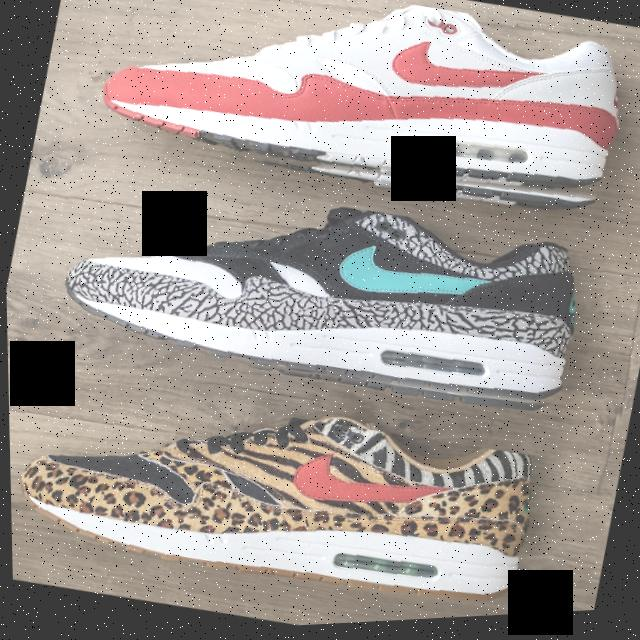shoe: (15, 136, 640, 462), (6, 347, 619, 640), (67, 0, 640, 265)
